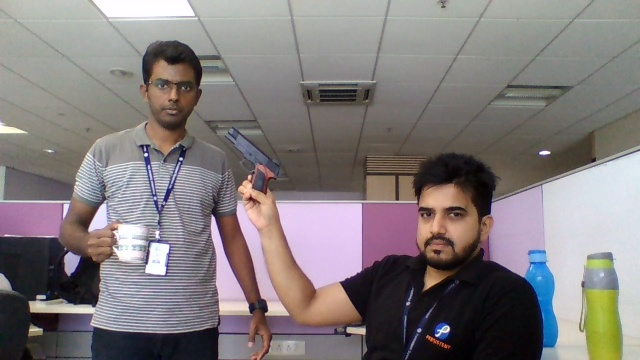gun: (225, 126, 281, 182)
